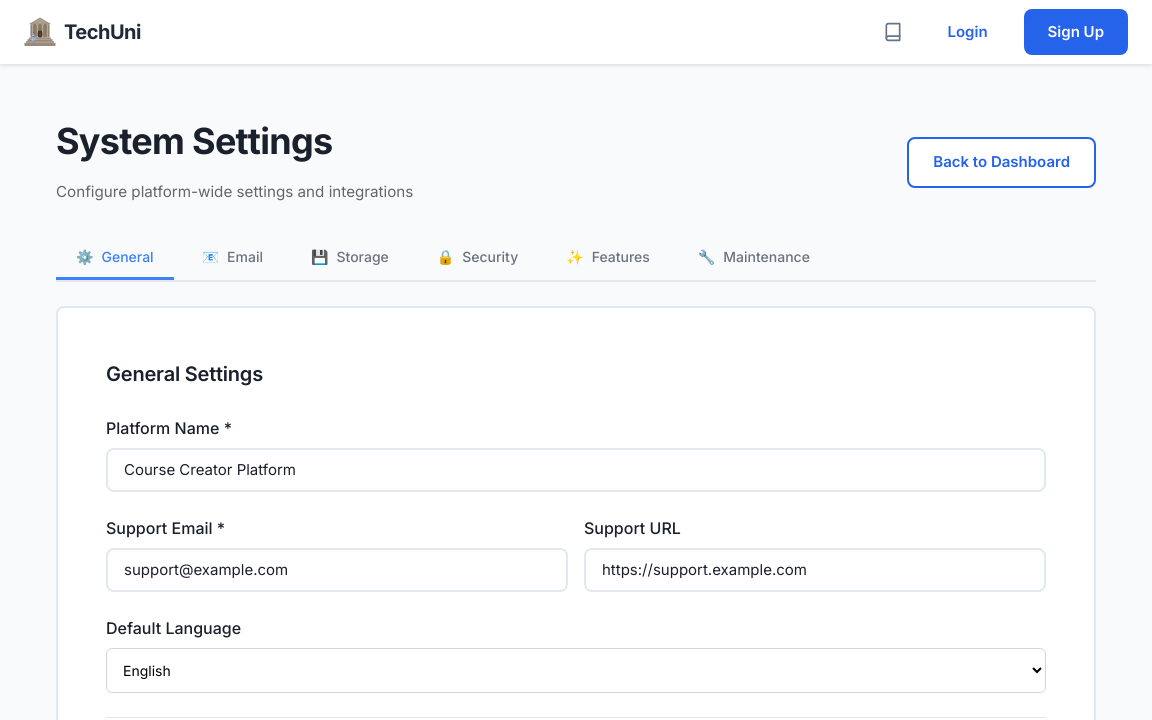
Scenario: SystemSettings Component › Tab Navigation › switches to email tab when clicked
Click the button "📧Email" at (232, 258), box top-left (182, 236), bottom-right (283, 280)
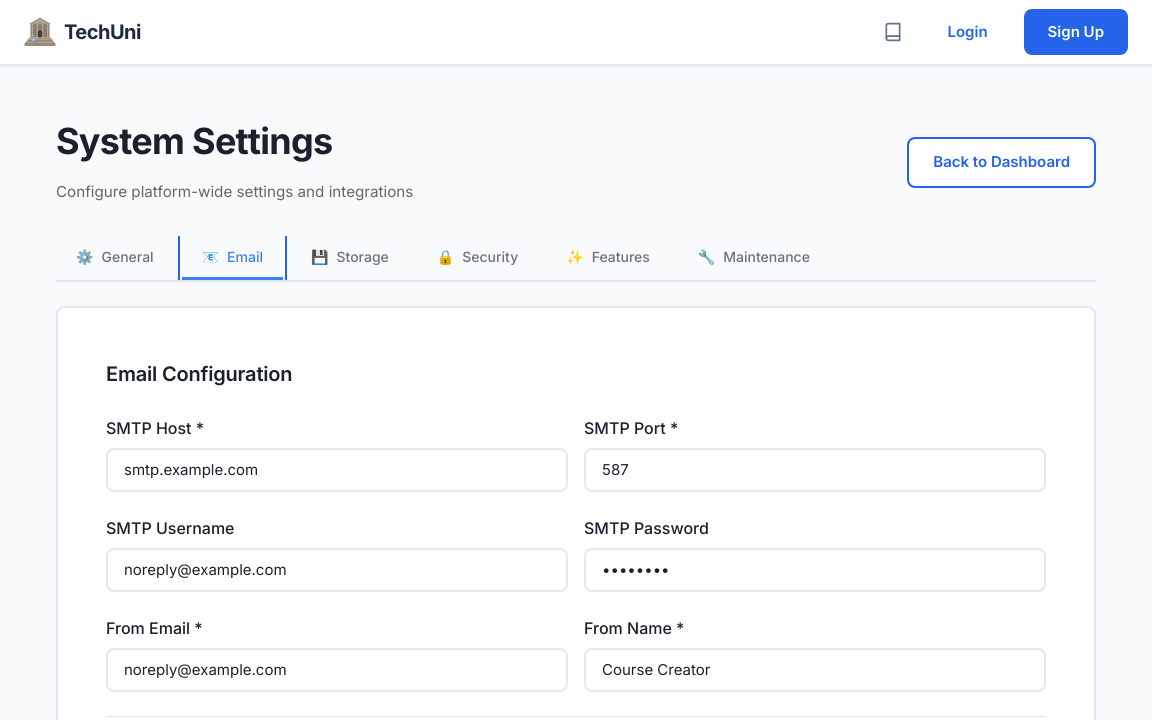
Now the field labelled "SMTP Host *" is shown, box top-left (106, 448), bottom-right (568, 492)
